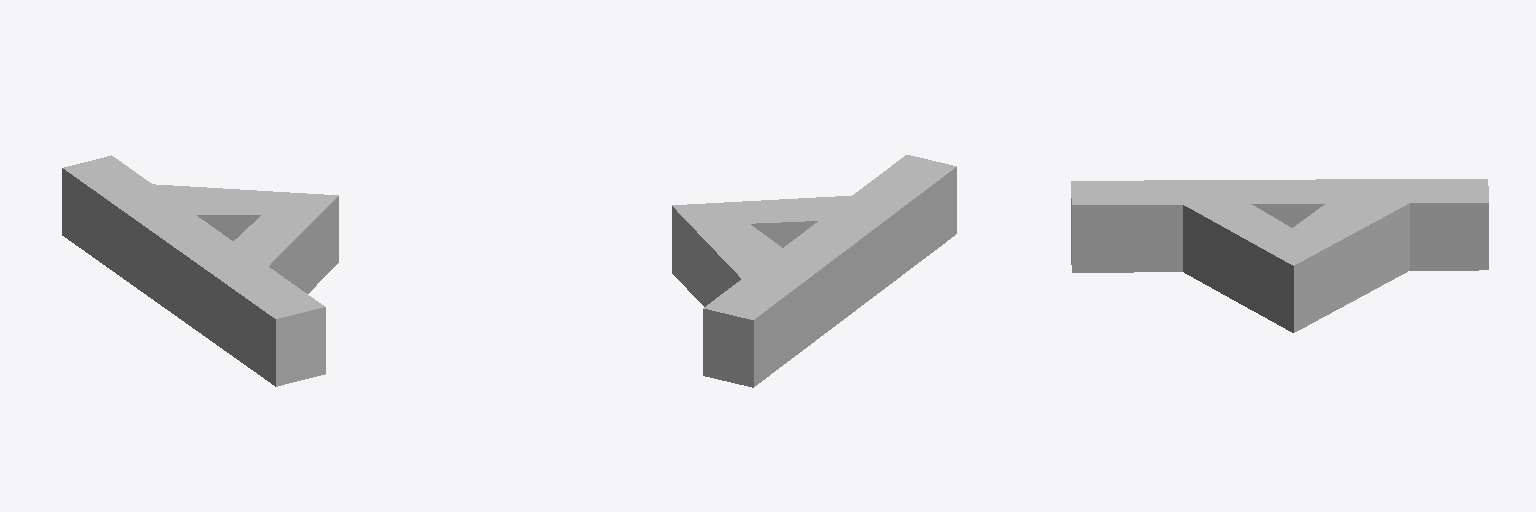
File: Thurisaz.obj
3 views of the same model, side by side, from view 1: azimuth 30°, elevation 25°; view 2: azimuth 150°, elevation 25°; view 3: azimuth 270°, elevation 25° (orthographic).
Visible parts, largest first — view 1: Thurisaz; view 2: Thurisaz; view 3: Thurisaz.
Part boxes in pixels (left/top/right/bottom): Thurisaz: left=62, top=155, right=338, bottom=386; Thurisaz: left=672, top=155, right=956, bottom=387; Thurisaz: left=1071, top=179, right=1488, bottom=332.
Bounding box in the file's own units: 0.2855 × 0.1028 × 0.5767.